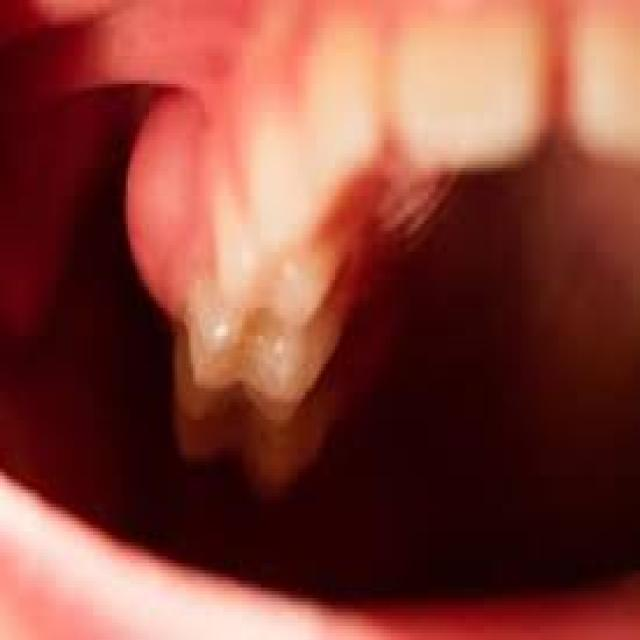abscess: (84, 80, 228, 341)
